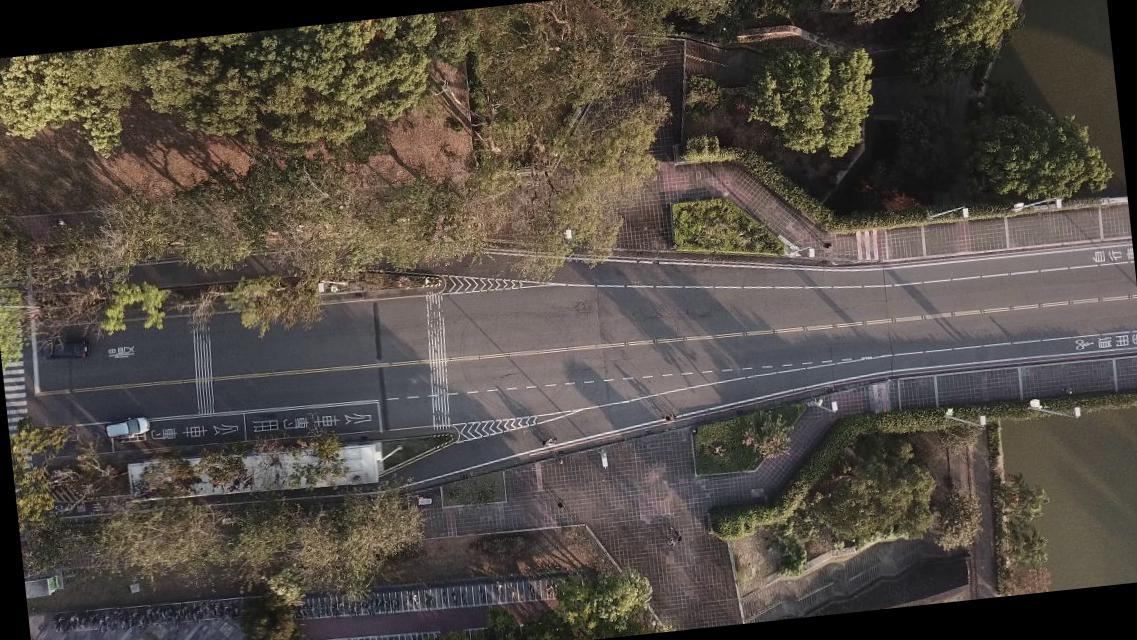vehicle: (40, 337, 90, 362), (102, 414, 150, 440)
